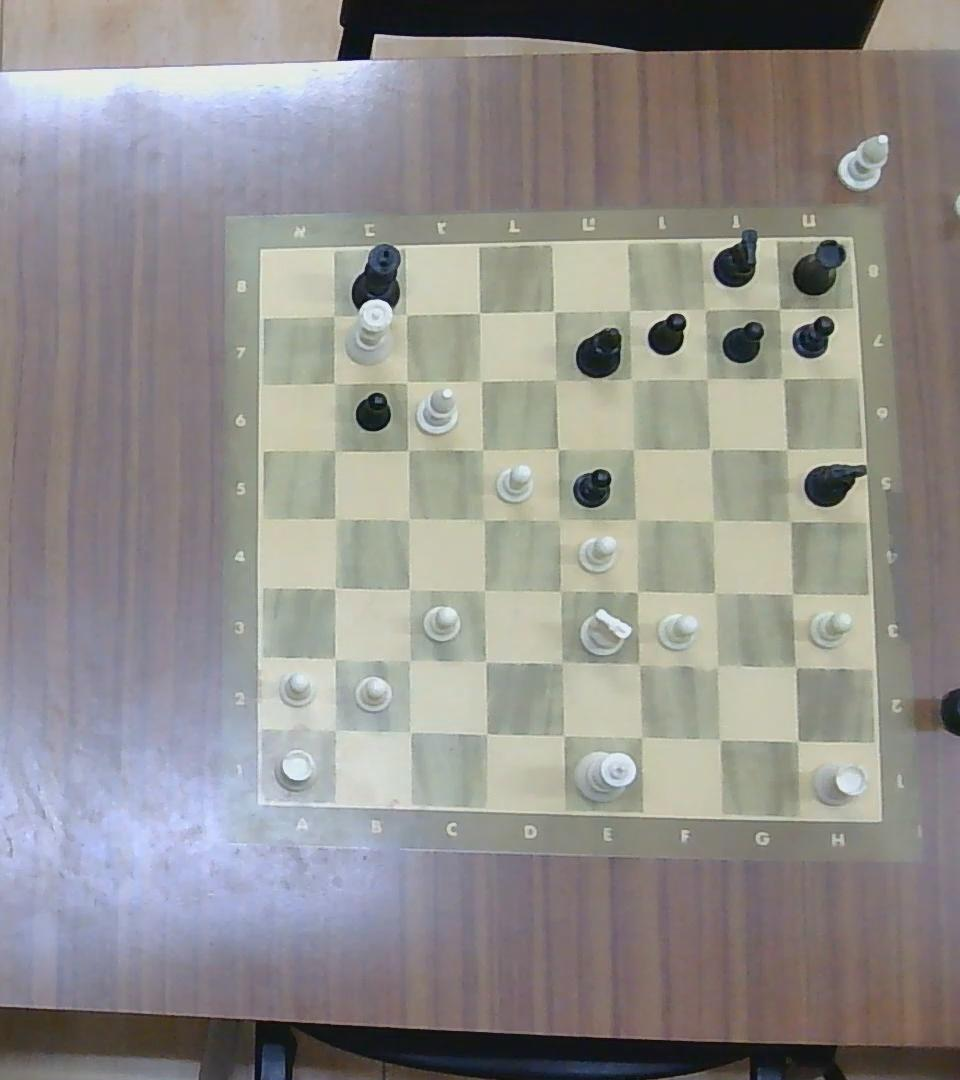xcorner: (614, 719, 661, 754), (766, 502, 810, 536), (702, 720, 741, 753), (616, 503, 655, 535), (317, 644, 353, 678), (322, 713, 354, 751), (546, 644, 582, 677), (778, 652, 817, 682), (462, 579, 504, 606), (693, 505, 732, 534), (392, 644, 426, 676), (697, 577, 730, 609), (619, 653, 656, 681), (543, 722, 578, 750), (779, 728, 815, 755), (704, 652, 736, 682), (466, 716, 498, 746), (464, 505, 499, 532), (395, 719, 425, 750), (621, 577, 653, 606), (694, 429, 720, 464), (541, 434, 572, 463), (474, 649, 506, 677), (319, 433, 349, 462), (546, 507, 576, 536), (773, 582, 805, 609), (318, 574, 352, 598), (539, 364, 568, 391), (391, 436, 420, 463), (616, 432, 642, 462), (550, 576, 576, 606), (395, 577, 426, 602), (767, 368, 799, 391), (691, 296, 719, 320), (616, 368, 646, 390), (466, 438, 496, 460), (322, 506, 347, 532), (396, 504, 421, 530), (464, 368, 493, 390), (617, 297, 642, 320), (320, 302, 342, 328), (692, 366, 718, 388), (768, 296, 793, 318), (322, 370, 345, 393), (774, 437, 798, 459), (466, 302, 492, 322), (541, 300, 564, 319), (394, 370, 416, 389), (394, 306, 416, 324)
